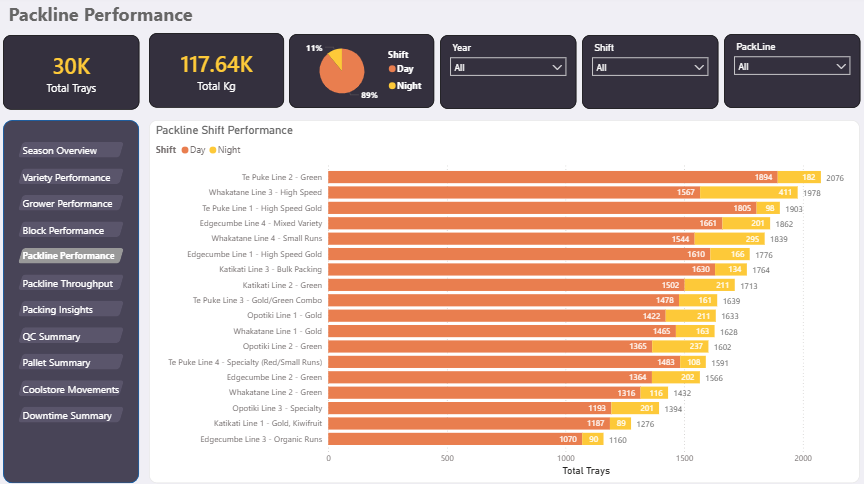

Layout of this report page (visuals, bound fields, positions):
{"tool":"powerbi","page":{"name":"Packline Performance","canvas":[1280,720],"ordinal":4},"visuals":[{"type":"shape","box":[6,182.4,200.5,535.2],"z":0},{"type":"barChart","title":"Packline Shift Performance","fields":{"Category":["view_PacklineShiftPerformance.PackLineName"],"Series":["view_PacklineShiftPerformance.Shift"],"Y":["Sum(view_PacklineShiftPerformance.TotalTrays)"]},"box":[220.4,182.6,1047,535.3],"z":1000},{"type":"cardVisual","fields":{"Data":["Sum(view_PacklineShiftPerformance.TotalTrays)"]},"box":[6.4,57.5,201.1,110.1],"z":2000},{"type":"cardVisual","fields":{"Data":["Sum(view_PacklineShiftPerformance.TotalKg)"]},"box":[220.5,55.1,199,110.2],"z":3000},{"type":"pieChart","fields":{"Category":["view_PacklineShiftPerformance.Shift"],"Y":["Sum(view_PacklineShiftPerformance.TotalTrays)"]},"box":[427.6,56.6,214,109],"z":4000},{"type":"slicer","fields":{"Values":["view_PacklineShiftPerformance.FullDate.Variation.Date Hierarchy.Year"]},"box":[649.8,56.8,200.6,108.7],"z":5000},{"type":"slicer","fields":{"Values":["view_PacklineShiftPerformance.Shift"]},"box":[858.5,56.7,200.6,108.7],"z":6000},{"type":"slicer","fields":{"Values":["view_PacklineShiftPerformance.PackLineName"]},"box":[1067.2,56.7,200.6,108.7],"z":7000},{"type":"pageNavigator","box":[27.4,214.6,157,420.5],"z":8000},{"type":"textbox","box":[8.8,2.9,290.2,47.1],"z":8001}]}

Visuals, with their boxes in screenshot pixels (x1, y1, x2, y2), scaled from the page's 1280x720 canvas onto the 864x484 screenshot:
shape: detection(4, 123, 139, 482)
"Packline Shift Performance" barChart: detection(149, 123, 855, 483)
cardVisual - Sum(view_PacklineShiftPerformance.TotalTrays): detection(4, 39, 140, 113)
cardVisual - Sum(view_PacklineShiftPerformance.TotalKg): detection(149, 37, 283, 111)
pieChart - view_PacklineShiftPerformance.Shift x Sum(view_PacklineShiftPerformance.TotalTrays): detection(289, 38, 433, 111)
slicer - view_PacklineShiftPerformance.FullDate.Variation.Date Hierarchy.Year: detection(439, 38, 574, 111)
slicer - view_PacklineShiftPerformance.Shift: detection(579, 38, 715, 111)
slicer - view_PacklineShiftPerformance.PackLineName: detection(720, 38, 856, 111)
pageNavigator: detection(18, 144, 124, 427)
textbox: detection(6, 2, 202, 34)
